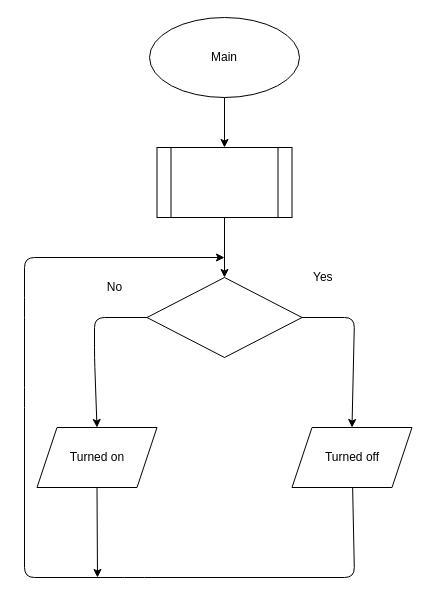
Image size: 430x603. Some labels were removed from this diagram. Each missing label, with the box of its shape:
Port Initializaion: (156, 146, 292, 218)
SW2 pressed ?: (146, 276, 302, 358)
